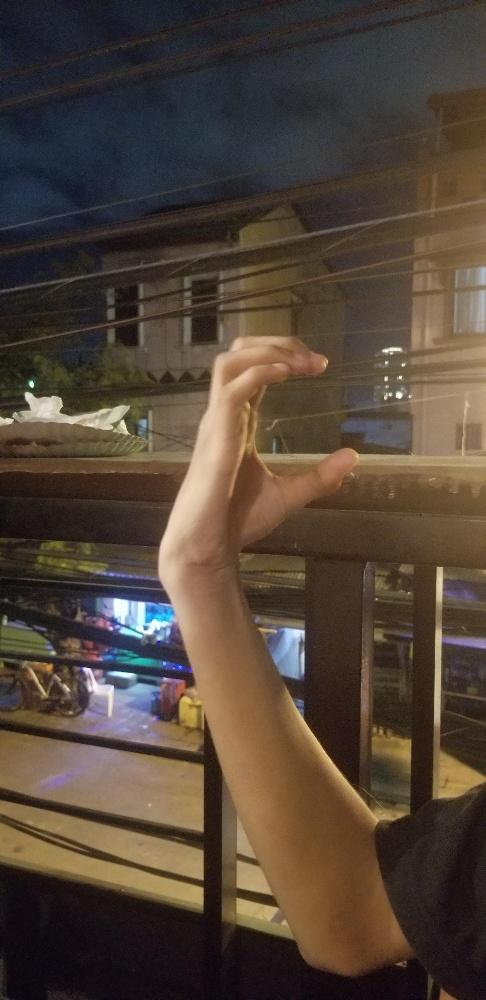c: (158, 334, 360, 560)
